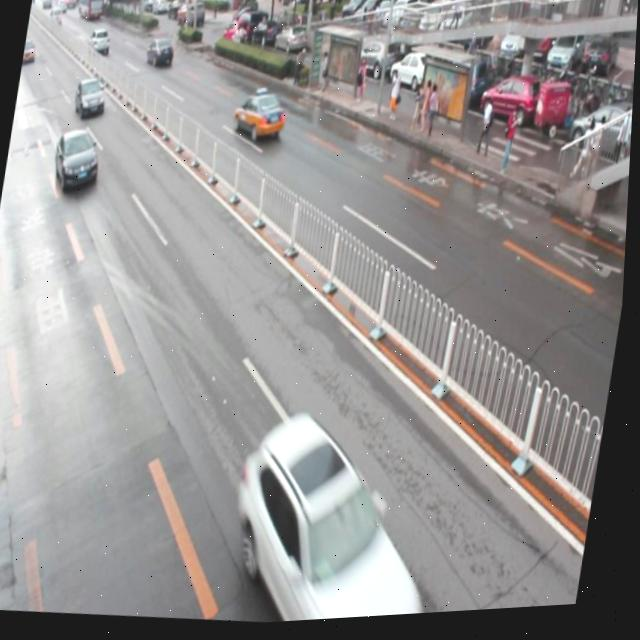car: (225, 407, 462, 628), (52, 126, 107, 194), (232, 91, 291, 149), (73, 76, 110, 121), (145, 38, 177, 72)
